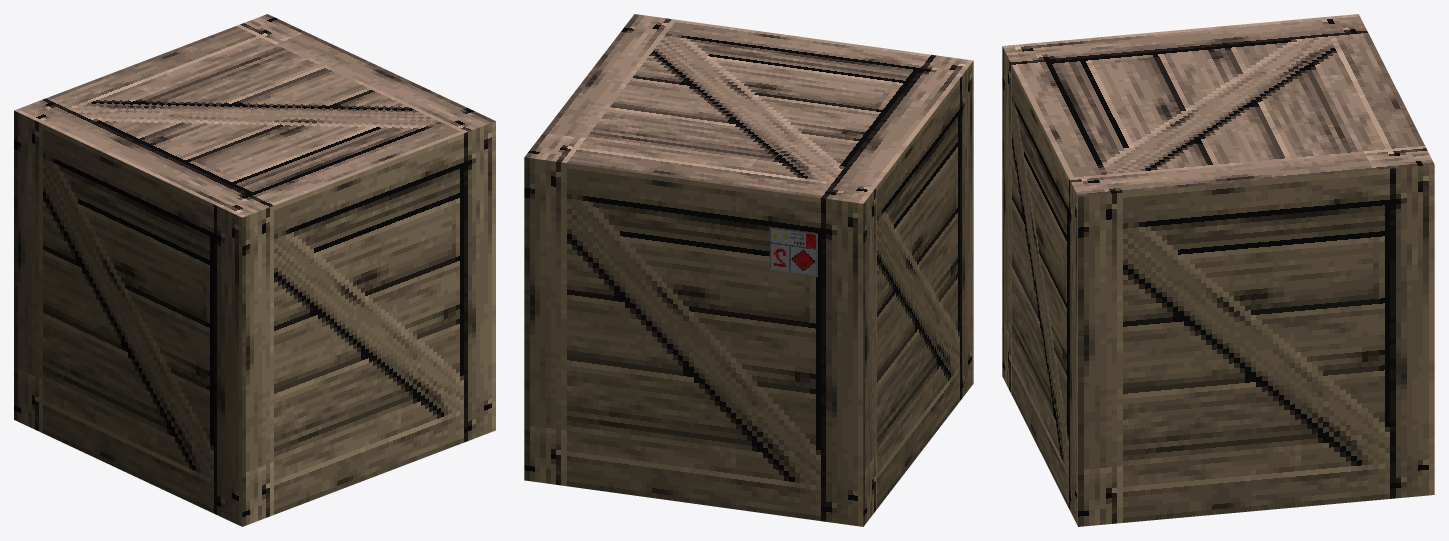
Rendered from primary_088.glb.
3 views of the same model, side by side, from view 1: azimuth 30°, elevation 25°; view 2: azimuth 150°, elevation 25°; view 3: azimuth 270°, elevation 25° (orthographic). The views are drawn at different scales.
Parts seen in each view (by area): view 1: Object; view 2: Object; view 3: Object.
Part boxes in pixels (x1,y1,x2,y2): Object: [14, 14, 495, 526]; Object: [524, 14, 973, 526]; Object: [1002, 14, 1434, 526].
Size of the model in its own units: 1.46 by 1.23 by 1.46.
7 materials, 7 textured.
